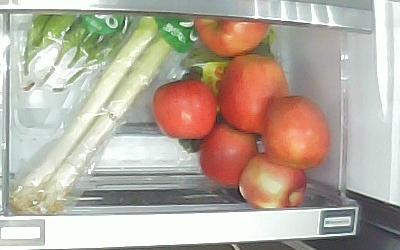apple: (217, 53, 290, 134), (263, 96, 329, 168), (199, 121, 260, 188), (153, 80, 216, 140), (239, 153, 307, 206), (193, 14, 268, 57)
